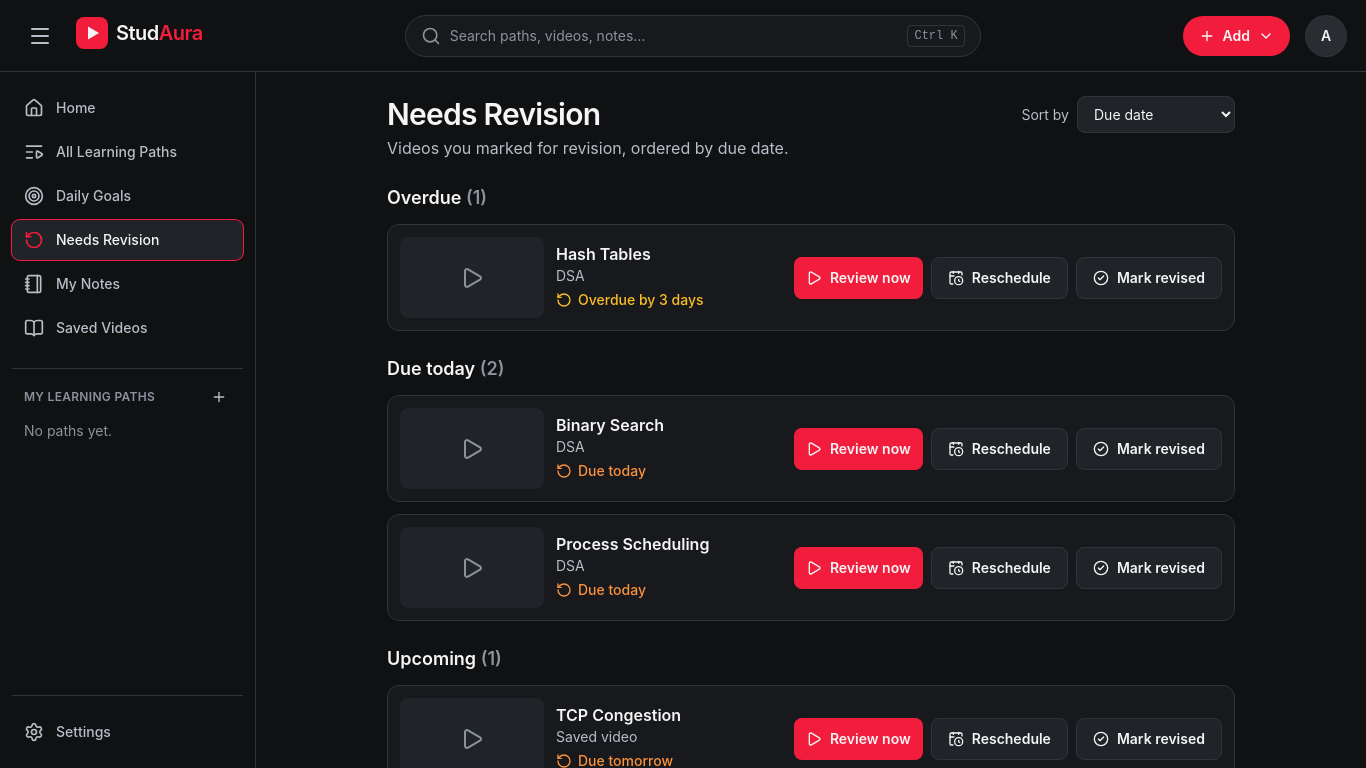
Test: Needs Revision page › marks a video revised and drops it from the list
The image size is (1366, 768).
Click the button with aria-label "Mark Hash Tables revised". click: {"x": 1149, "y": 278}
box: [1076, 256, 1222, 298]
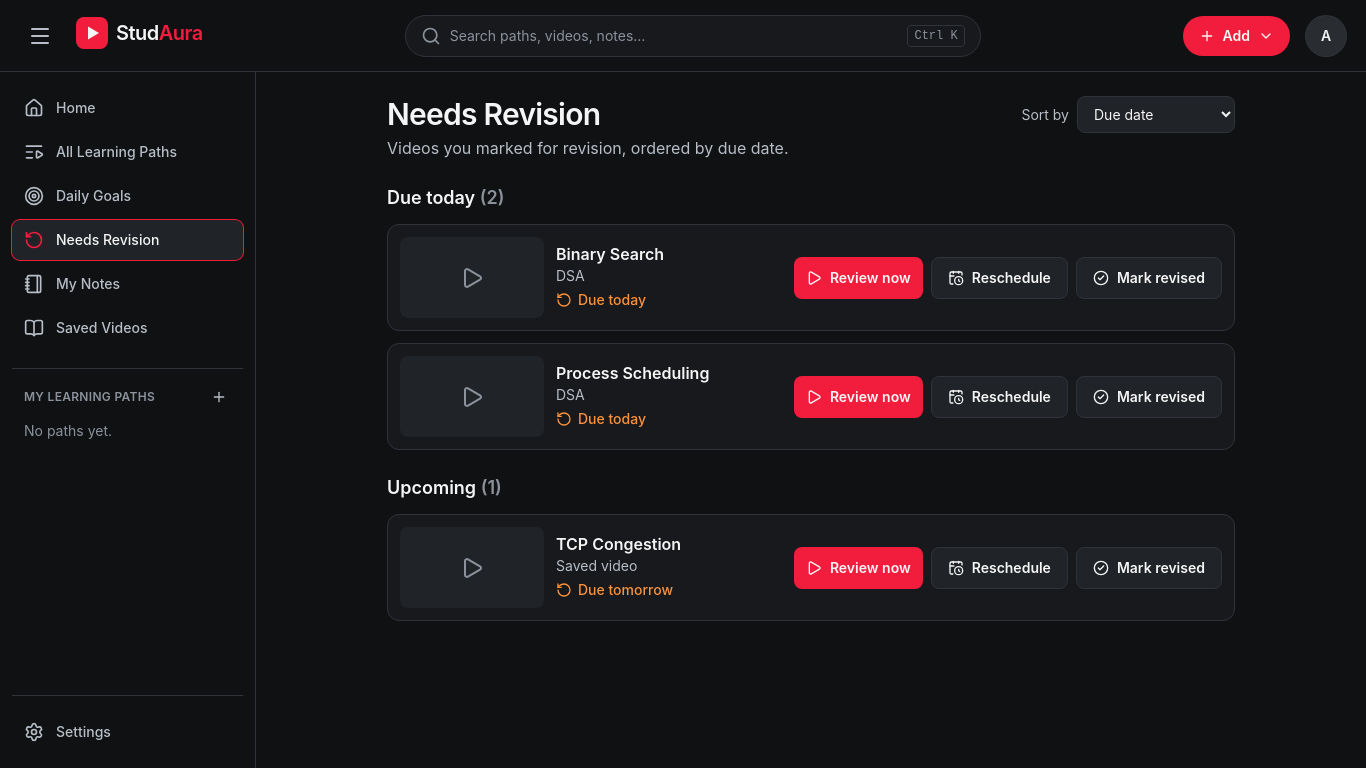
Expected: the heading "Hash Tables" is gone
Expected: the heading "Overdue" is gone
